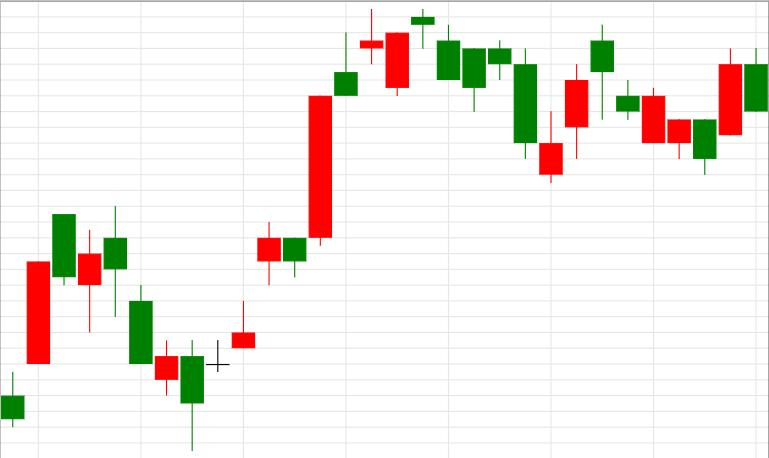inverse_hammer_rise: (412, 9, 562, 183)
